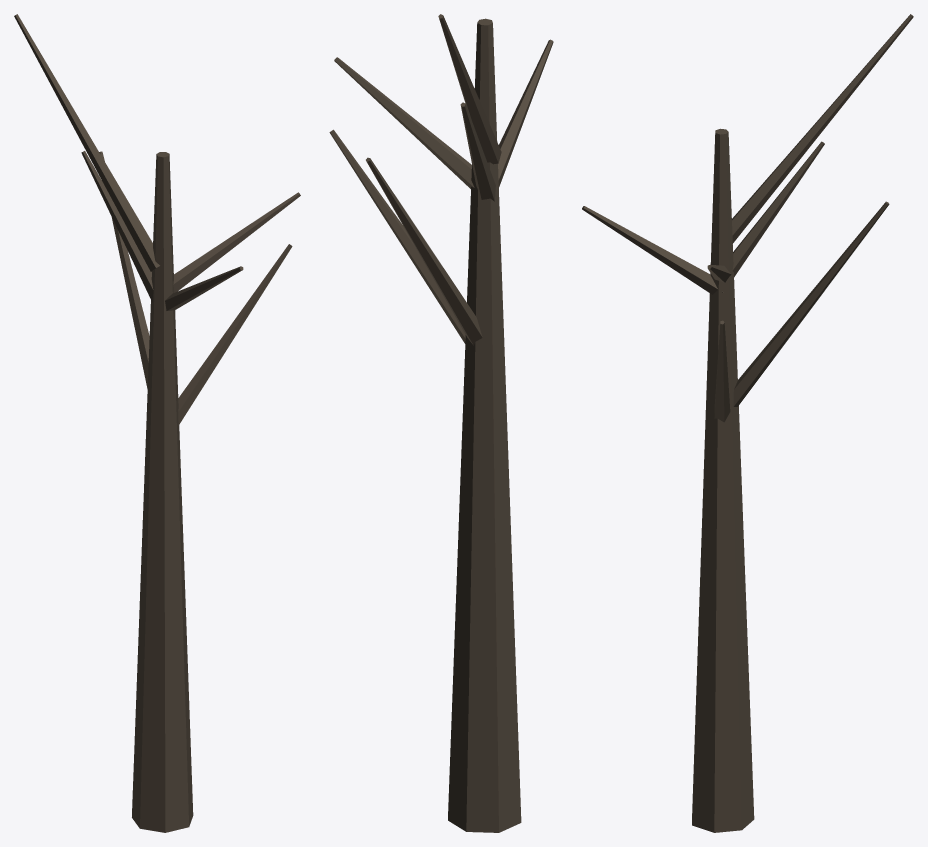
The model's file is prop_tree_dead.glb.
3 views of the same model, side by side, from view 1: azimuth 30°, elevation 25°; view 2: azimuth 150°, elevation 25°; view 3: azimuth 270°, elevation 25° (orthographic). The views are drawn at different scales.
Parts seen in each view (by area): view 1: prop_tree_dead; view 2: prop_tree_dead; view 3: prop_tree_dead.
Boxes of the visible parts, x1,y1,x2,y2 form: prop_tree_dead: [14, 14, 300, 832]; prop_tree_dead: [329, 14, 553, 832]; prop_tree_dead: [582, 14, 913, 832].
Bounding box in the file's own units: 1.93 × 7.35 × 2.84.
